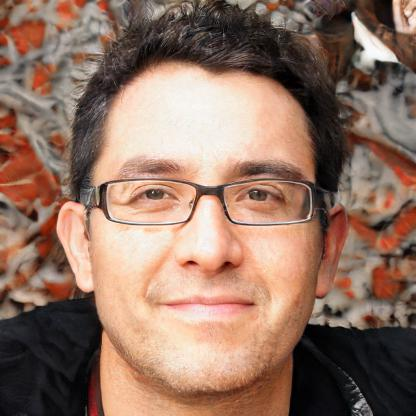glasses: (85, 176, 322, 232)
